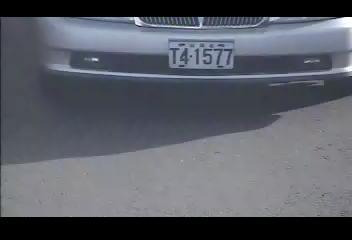plate: (166, 39, 235, 71)
